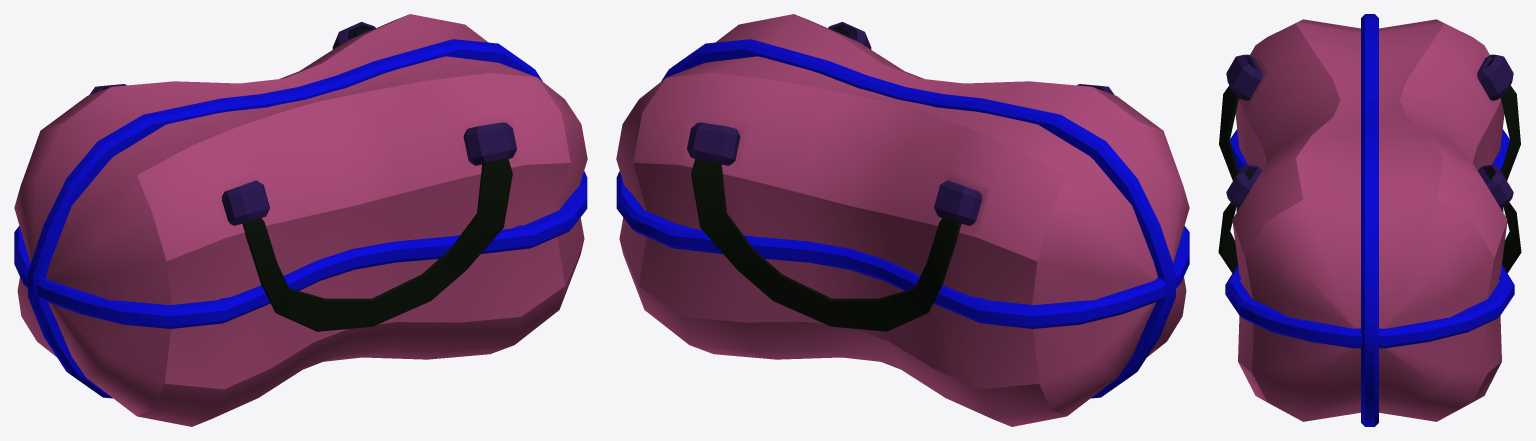
File: Bag.FBX
3 views of the same model, side by side, from view 1: azimuth 30°, elevation 25°; view 2: azimuth 150°, elevation 25°; view 3: azimuth 270°, elevation 25° (orthographic). The views are drawn at different scales.
Visible parts, largest first — view 1: Bag; view 2: Bag; view 3: Bag.
Boxes of the visible parts, x1=… form: Bag: x1=14, y1=14, x2=587, y2=426; Bag: x1=616, y1=14, x2=1189, y2=426; Bag: x1=1218, y1=14, x2=1521, y2=426.
Bounding box in the file's own units: 1348 × 710 × 676.
